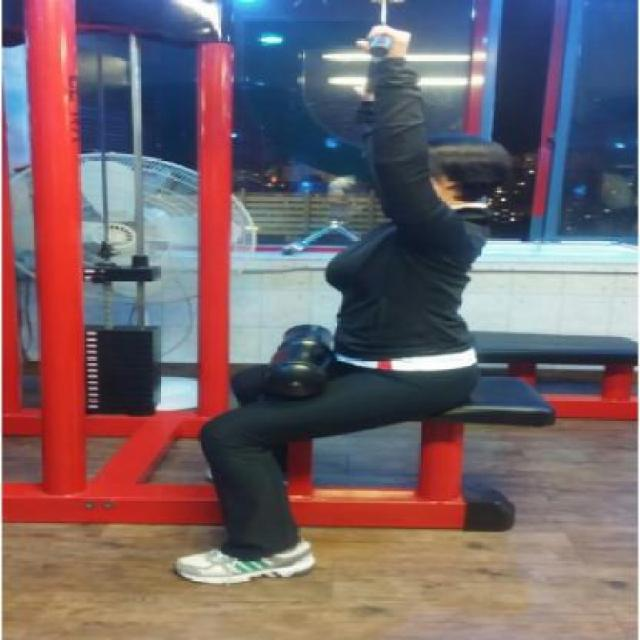Lat Pull Down: (1, 0, 574, 591)
